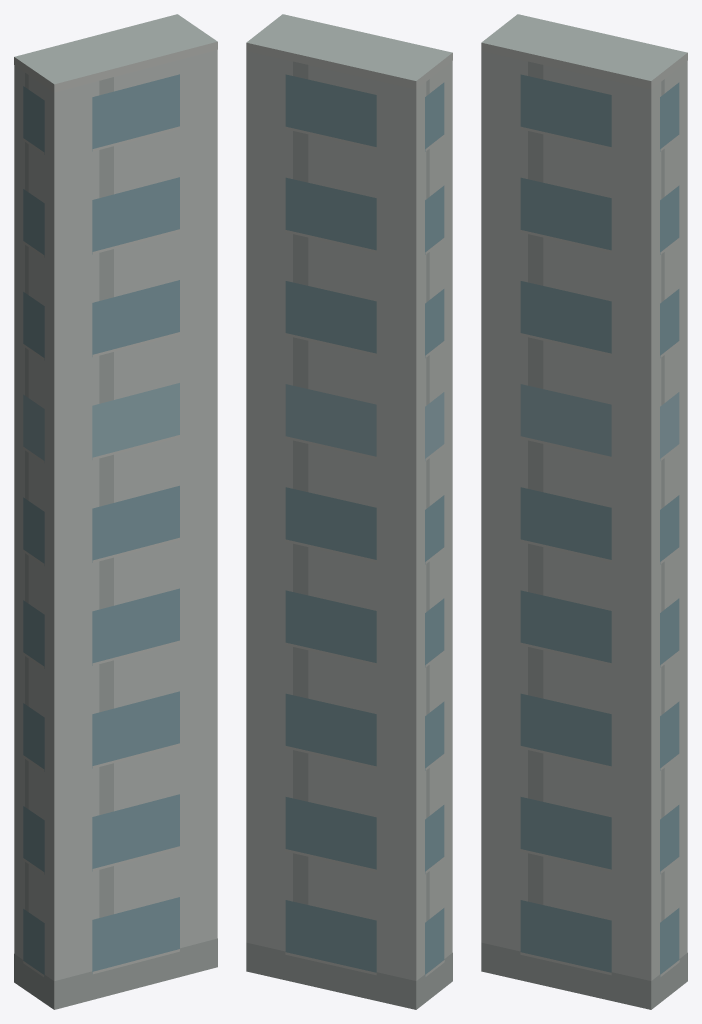
The model's file is survey-upis-32840146.glb.
3 renders of one model, left to right at view 1: azimuth 30°, elevation 25°; view 2: azimuth 150°, elevation 25°; view 3: azimuth 330°, elevation 25°, orthographic.
Visible parts, largest first — view 1: survey-upis-32840146.tmp; view 2: survey-upis-32840146.tmp; view 3: survey-upis-32840146.tmp.
Part boxes in pixels (x1=…): survey-upis-32840146.tmp: x1=14, y1=14, x2=217, y2=1009; survey-upis-32840146.tmp: x1=246, y1=14, x2=452, y2=1009; survey-upis-32840146.tmp: x1=481, y1=14, x2=687, y2=1009.
Size of the model in its own units: 5.24 by 27.45 by 2.23.
